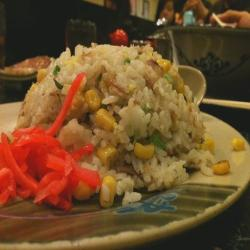rice: (12, 36, 226, 206)
